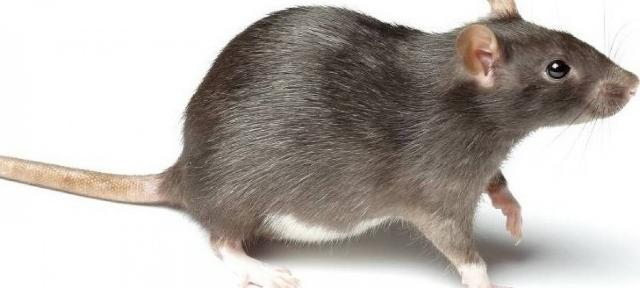rat: (2, 1, 640, 287)
